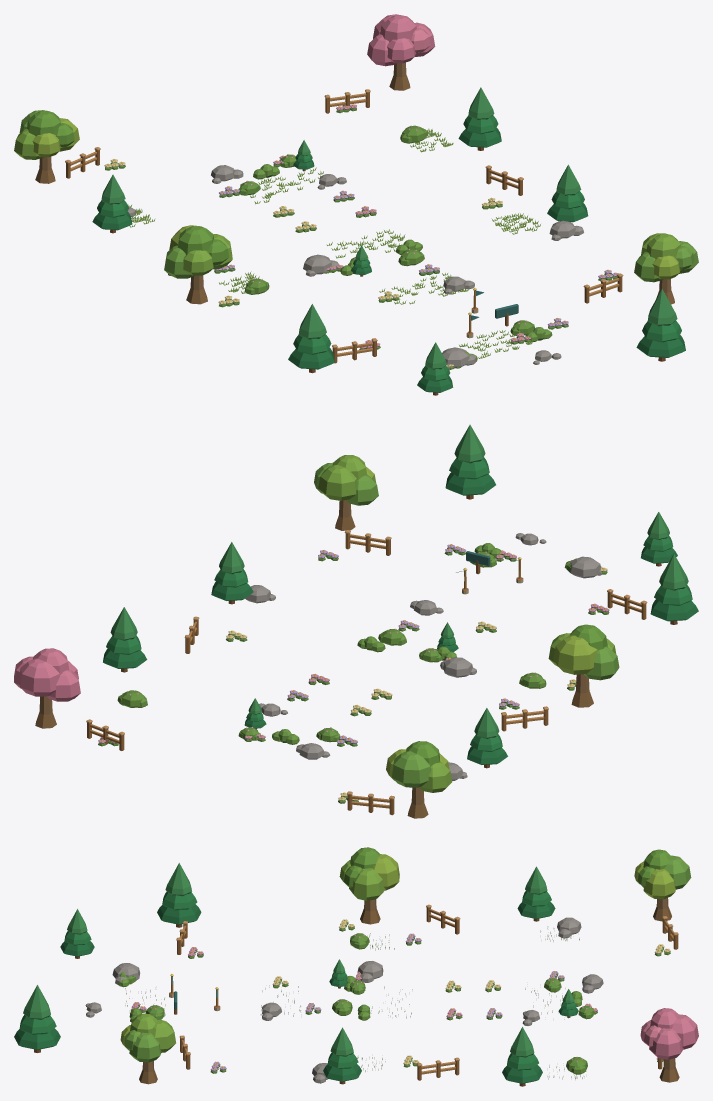
Rendered from trail_garden.glb.
3 views of the same model, one above another, from view 1: azimuth 30°, elevation 25°; view 2: azimuth 150°, elevation 25°; view 3: azimuth 270°, elevation 25° (orthographic). The views are drawn at different scales.
Visible parts, largest first — view 1: Poiana; view 2: Poiana; view 3: Poiana.
Part boxes in pixels (x1,y1,x2,y2): Poiana: (14,14,698,395); Poiana: (14,424,698,818); Poiana: (14,847,698,1086).
Size of the model in its own units: 19.77 by 3.51 by 29.34.
